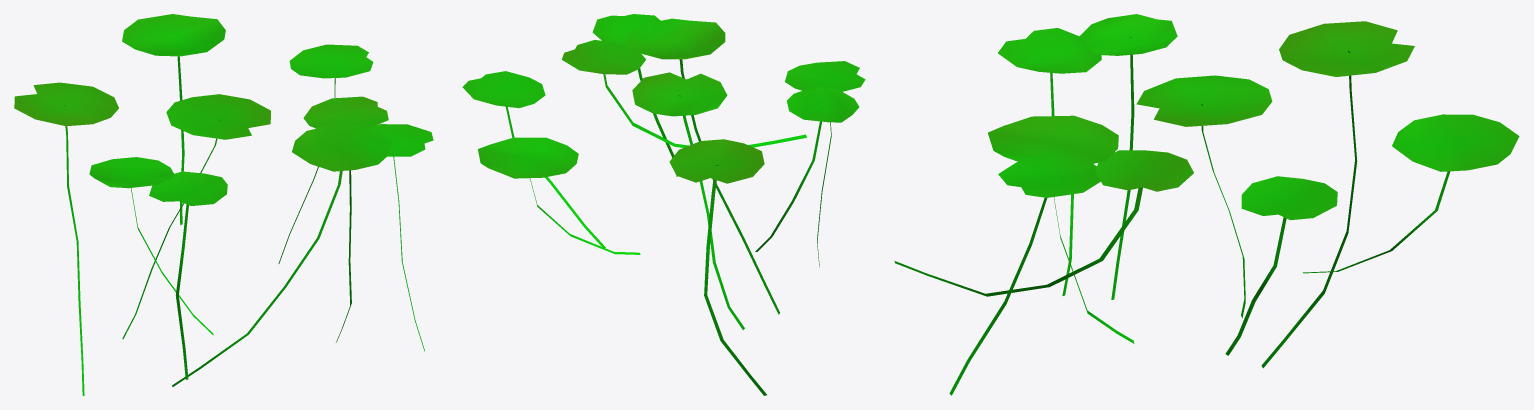
Rendered from Var1_LOD2.fbx.
The picture shows the model from 3 angles, left to right: view 1: azimuth 30°, elevation 25°; view 2: azimuth 150°, elevation 25°; view 3: azimuth 270°, elevation 25°; orthographic projection. The views are drawn at different scales.
Parts seen in each view (by area): view 1: _00f3_Var1_LOD2; view 2: _00f3_Var1_LOD2; view 3: _00f3_Var1_LOD2.
Boxes of the visible parts, box(x1,y1,x2,y2) form: _00f3_Var1_LOD2: box(14, 14, 433, 395); _00f3_Var1_LOD2: box(462, 14, 865, 395); _00f3_Var1_LOD2: box(894, 14, 1519, 395).
Size of the model in its own units: 89.27 by 68.43 by 115.
